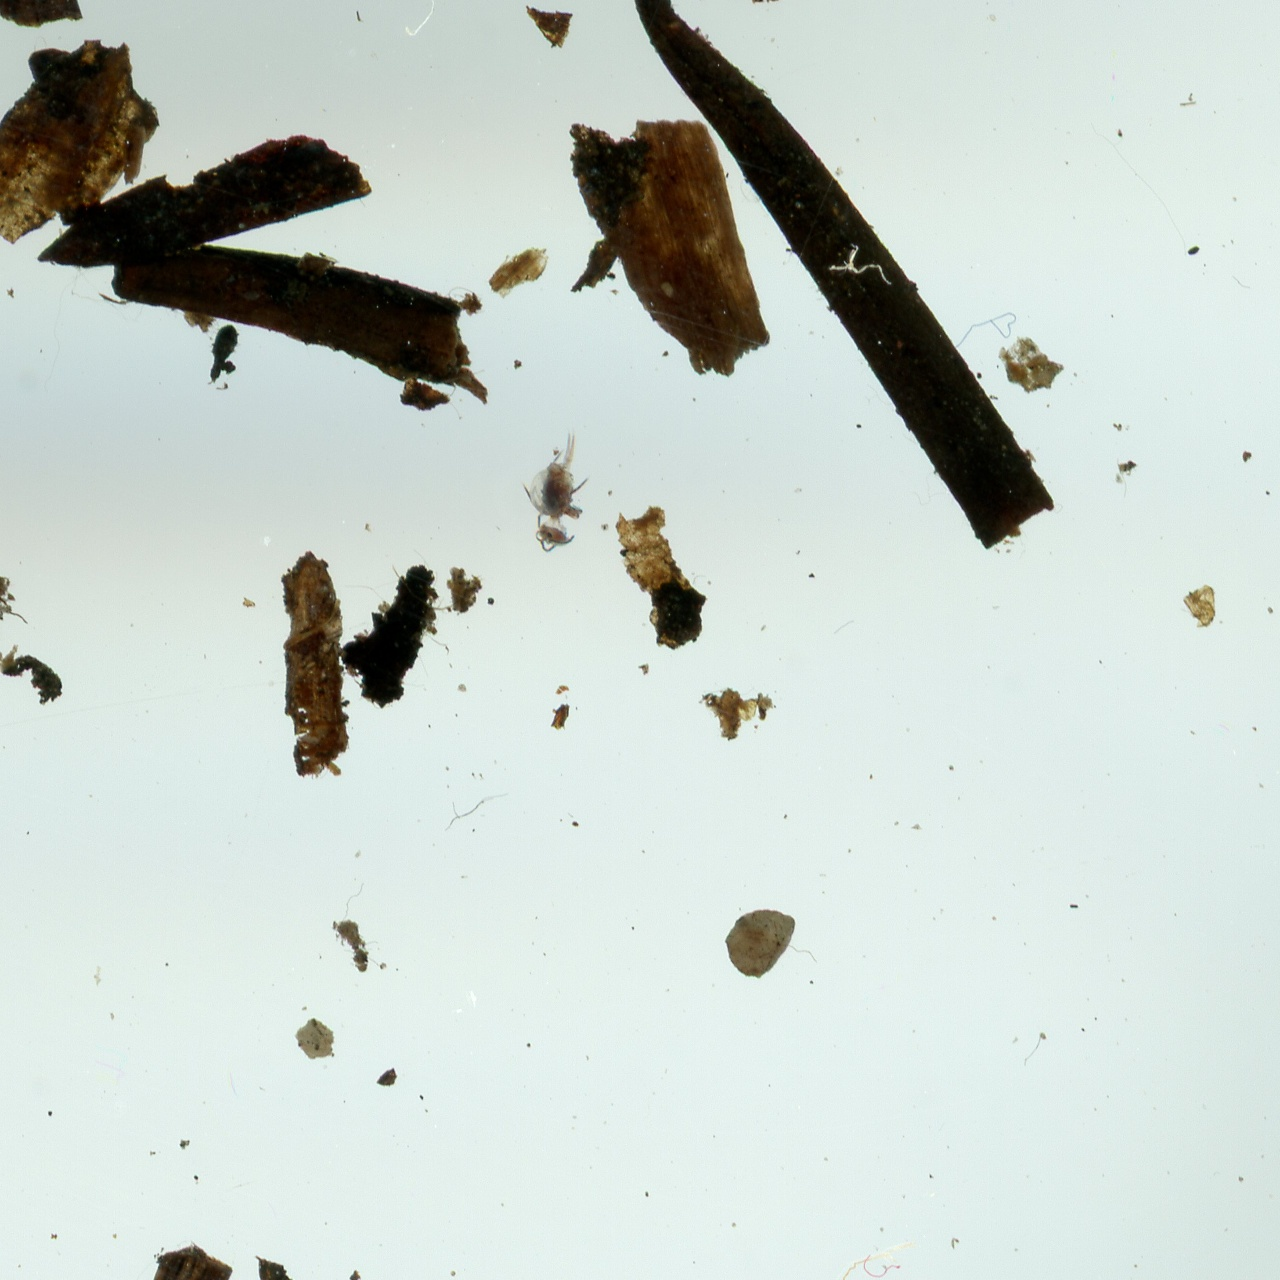arthropod: (519, 420, 592, 560)
